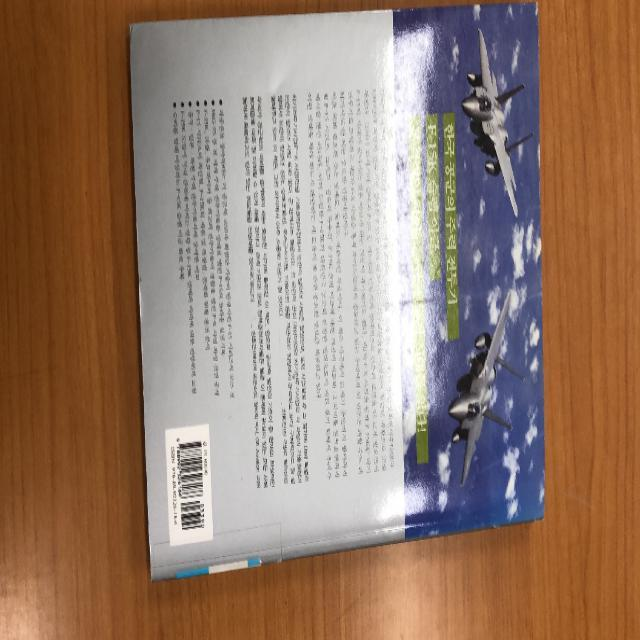Wornout: (132, 213, 155, 328), (124, 12, 142, 62)
